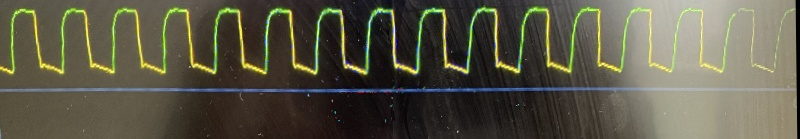normal_pressure: (0, 0, 781, 85)
